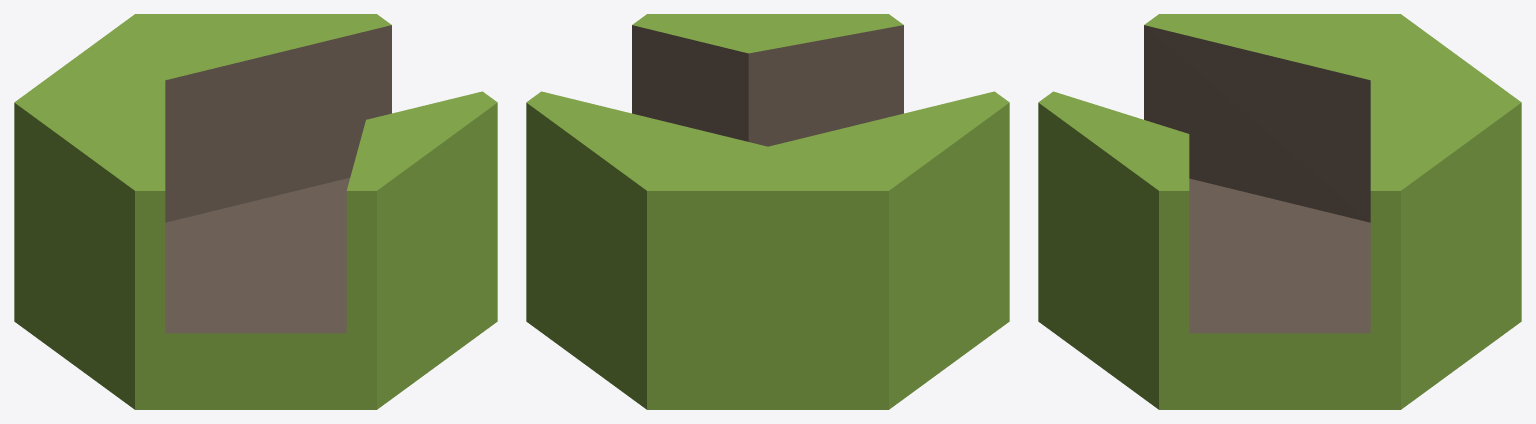
The model's file is moat2.fbx.
3 renders of one model, left to right at view 1: azimuth 30°, elevation 25°; view 2: azimuth 150°, elevation 25°; view 3: azimuth 270°, elevation 25°, orthographic.
Visible parts, largest first — view 1: Cylinder; view 2: Cylinder; view 3: Cylinder.
Part boxes in pixels (box(x1,y1,x2,y2)): Cylinder: box(14, 14, 497, 409); Cylinder: box(526, 14, 1009, 409); Cylinder: box(1038, 14, 1521, 409).
Bounding box in the file's own units: 1.73 × 1 × 2.
